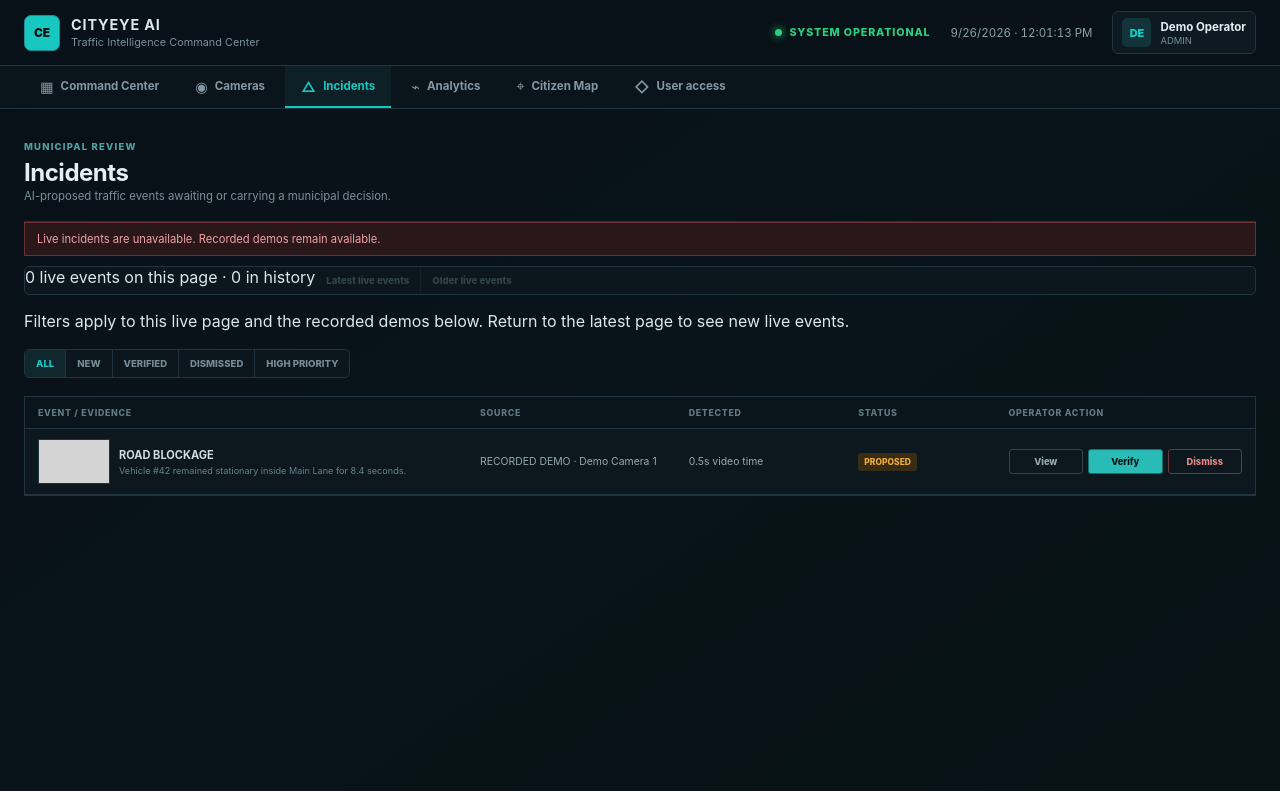
Test case: CityEye municipal dashboard › renders measured road blockage evidence in the existing incident workflow
The image size is (1280, 791).
Click the button "View" at (1046, 462), box [1008,449,1083,474]
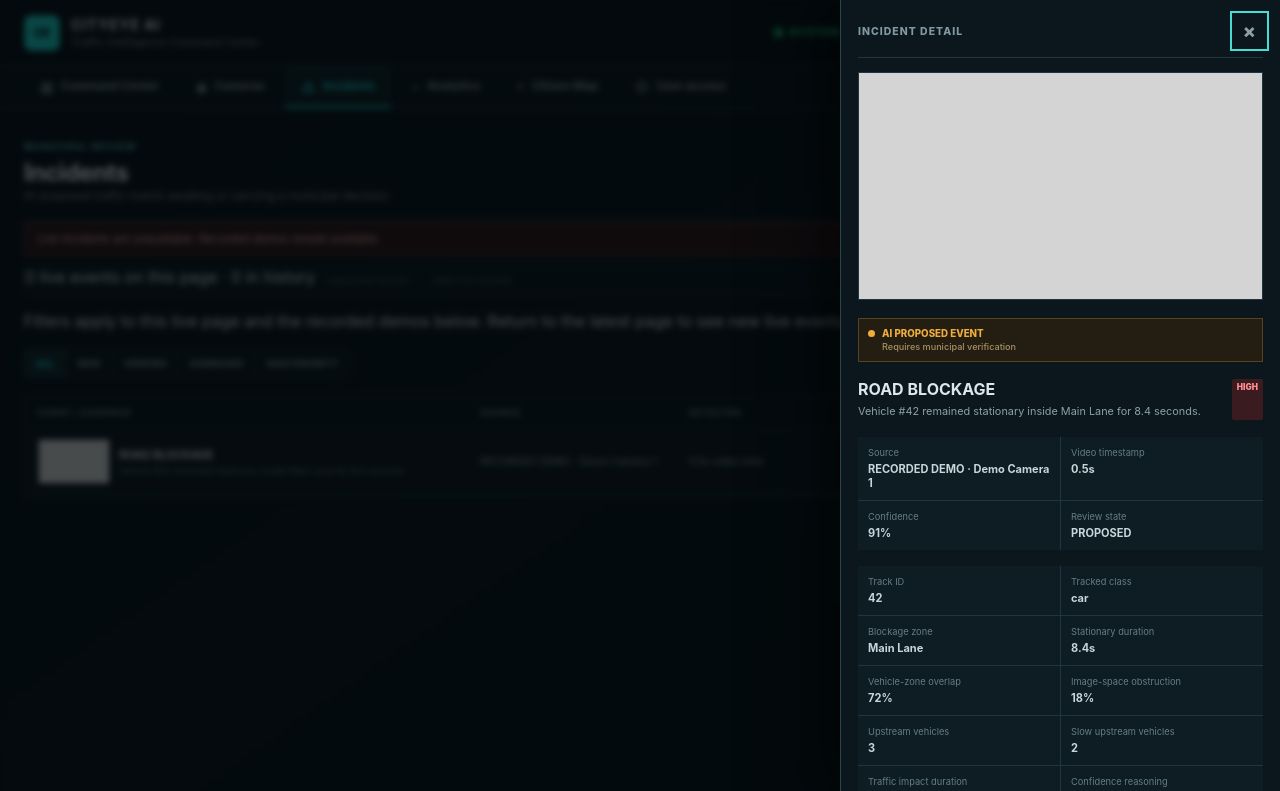
Now the text "Main Lane" is shown, box [868,641,923,655]
Now the text "72%" is shown, box [868,691,893,705]
Now the text "2" is shown, box [1071,741,1078,755]
